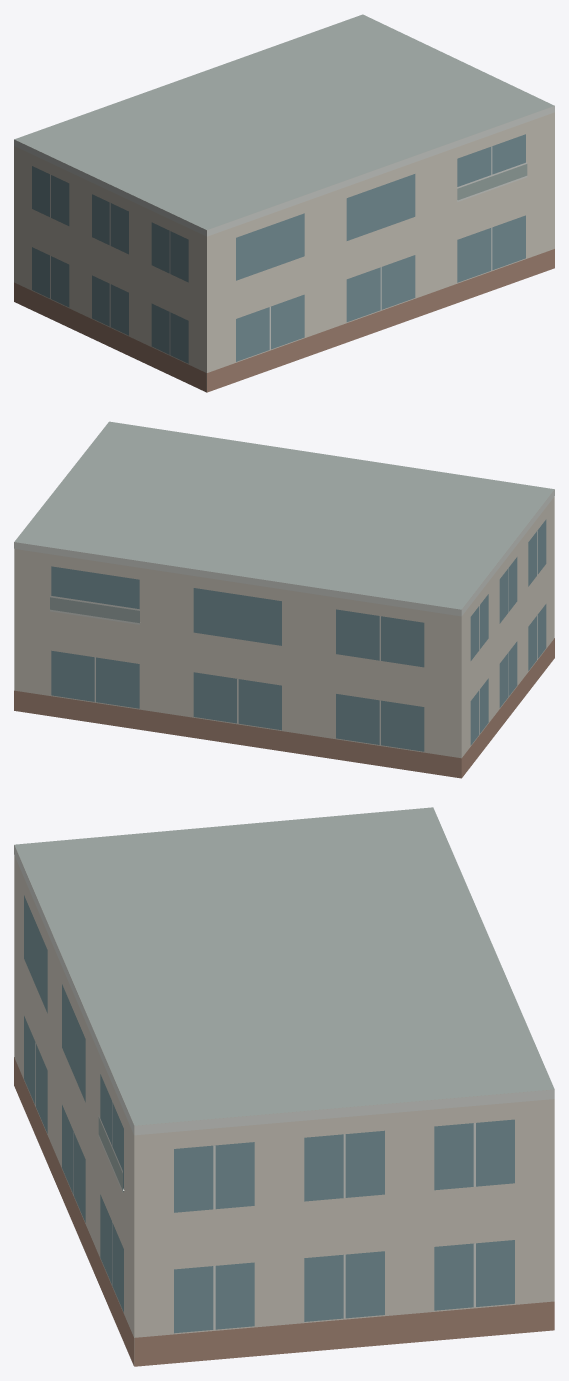
The model's file is survey-upis-32596168.glb.
3 views of the same model, one above another, from view 1: azimuth 30°, elevation 25°; view 2: azimuth 150°, elevation 25°; view 3: azimuth 270°, elevation 25° (orthographic). The views are drawn at different scales.
Visible parts, largest first — view 1: survey-upis-32596168.tmp; view 2: survey-upis-32596168.tmp; view 3: survey-upis-32596168.tmp.
Part boxes in pixels (x1,y1,x2,y2): survey-upis-32596168.tmp: (14, 14, 554, 392); survey-upis-32596168.tmp: (14, 421, 554, 778); survey-upis-32596168.tmp: (14, 807, 554, 1366).
Size of the model in its own units: 17.31 by 6.1 by 12.42.
